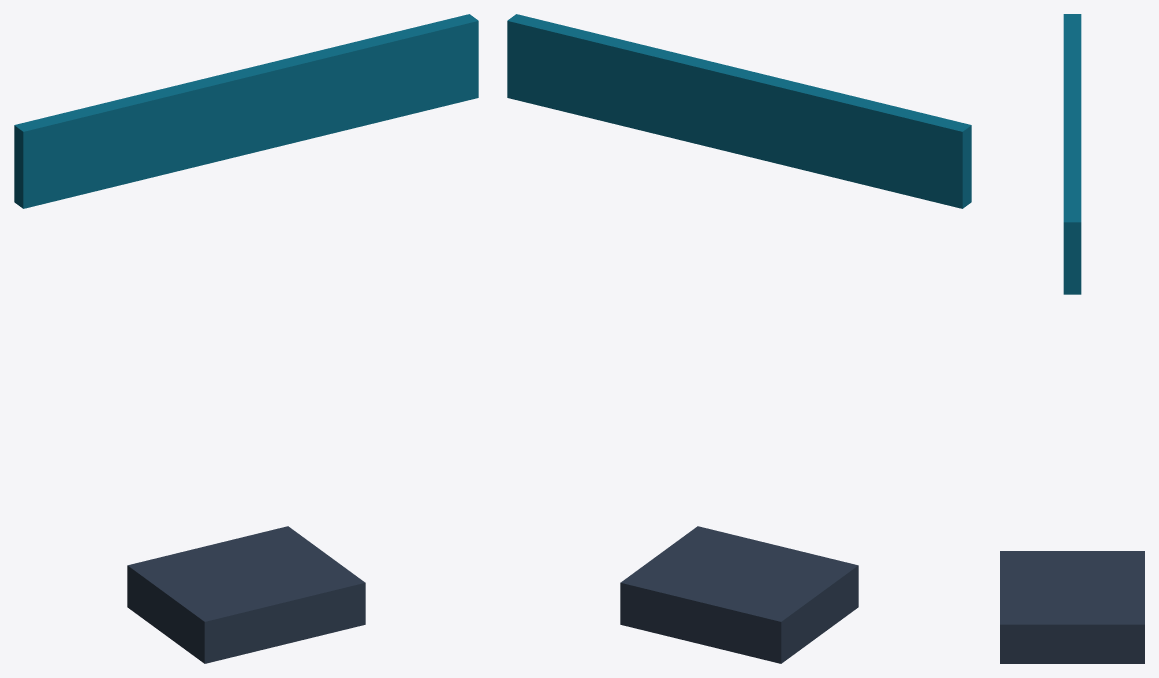
File: beverages.glb
3 views of the same model, side by side, from view 1: azimuth 30°, elevation 25°; view 2: azimuth 150°, elevation 25°; view 3: azimuth 270°, elevation 25° (orthographic). The views are drawn at different scales.
Parts seen in each view (by area): view 1: Sign_Board, Endcap_Base; view 2: Sign_Board, Endcap_Base; view 3: Endcap_Base, Sign_Board.
Boxes of the visible parts, x1,y1,x2,y2 form: Sign_Board: (14,14,478,208); Endcap_Base: (127,526,365,663); Sign_Board: (507,14,971,208); Endcap_Base: (620,526,858,663); Endcap_Base: (1000,551,1144,663); Sign_Board: (1063,14,1081,294).
Size of the model in its own units: 3.4 by 3.88 by 1.
